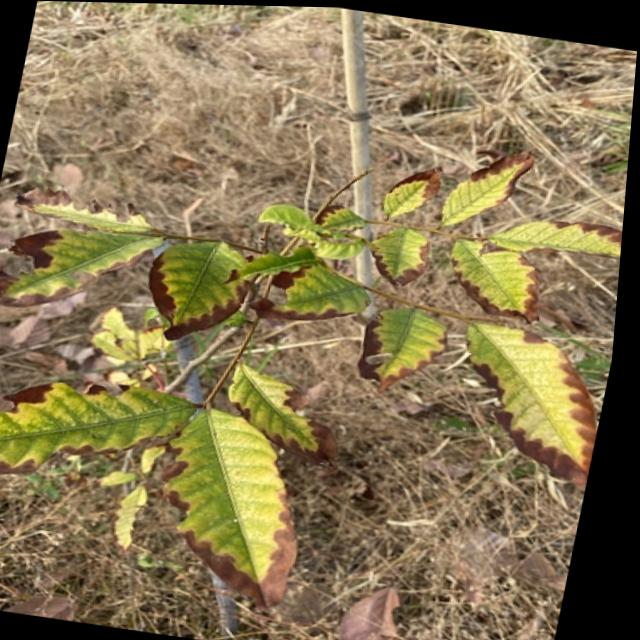Leaf Blight: (0, 60, 636, 640)
